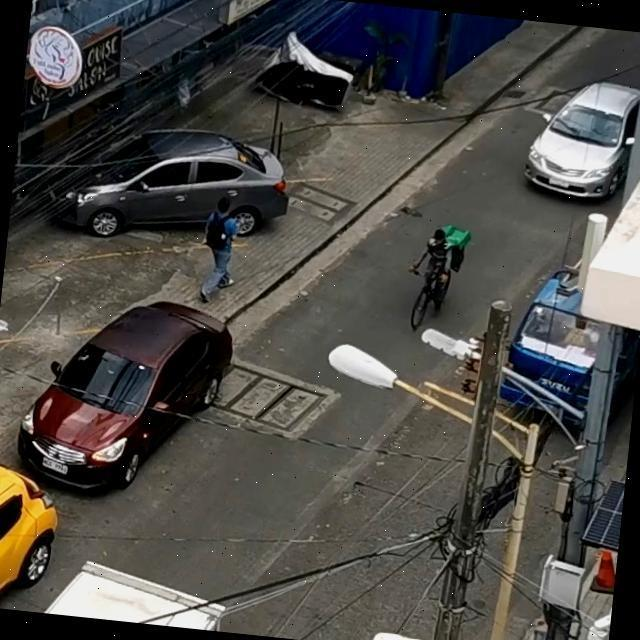Bike: (388, 202, 496, 354)
